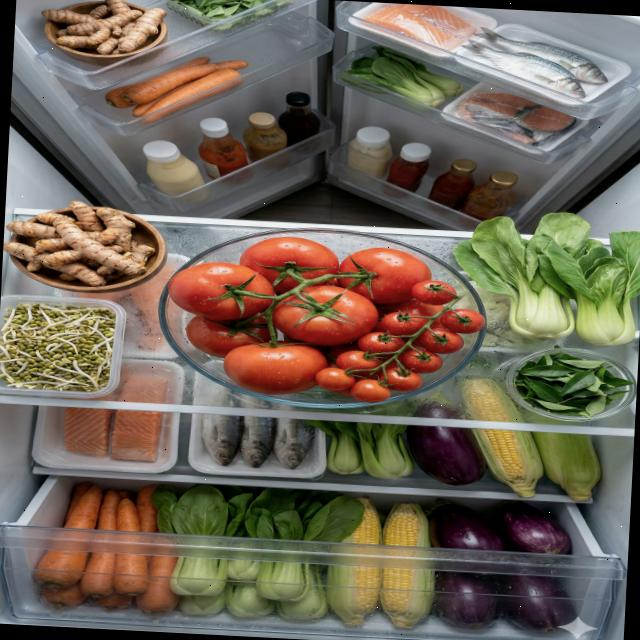carrot: (33, 478, 185, 618), (103, 51, 250, 130)
corn: (456, 378, 606, 502), (323, 496, 441, 632)
curry_leaves: (512, 342, 638, 422), (168, 0, 291, 37)
eggplant: (423, 496, 579, 636), (404, 388, 492, 488)
fish: (458, 26, 612, 101), (200, 383, 319, 472), (62, 371, 170, 464), (456, 91, 578, 149), (358, 1, 478, 52)
pakchoy: (146, 481, 367, 624), (447, 206, 640, 348), (339, 44, 468, 114), (302, 419, 416, 481)
tomato: (160, 230, 492, 410)
turmeric: (2, 197, 158, 290), (39, 0, 169, 59)
